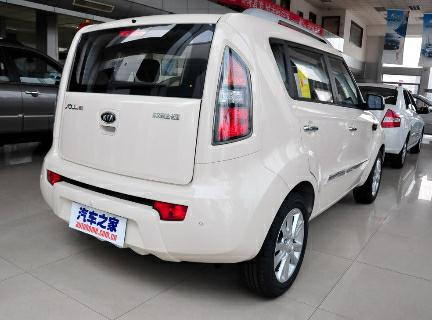起亚-秀尔: (34, 6, 395, 302)
